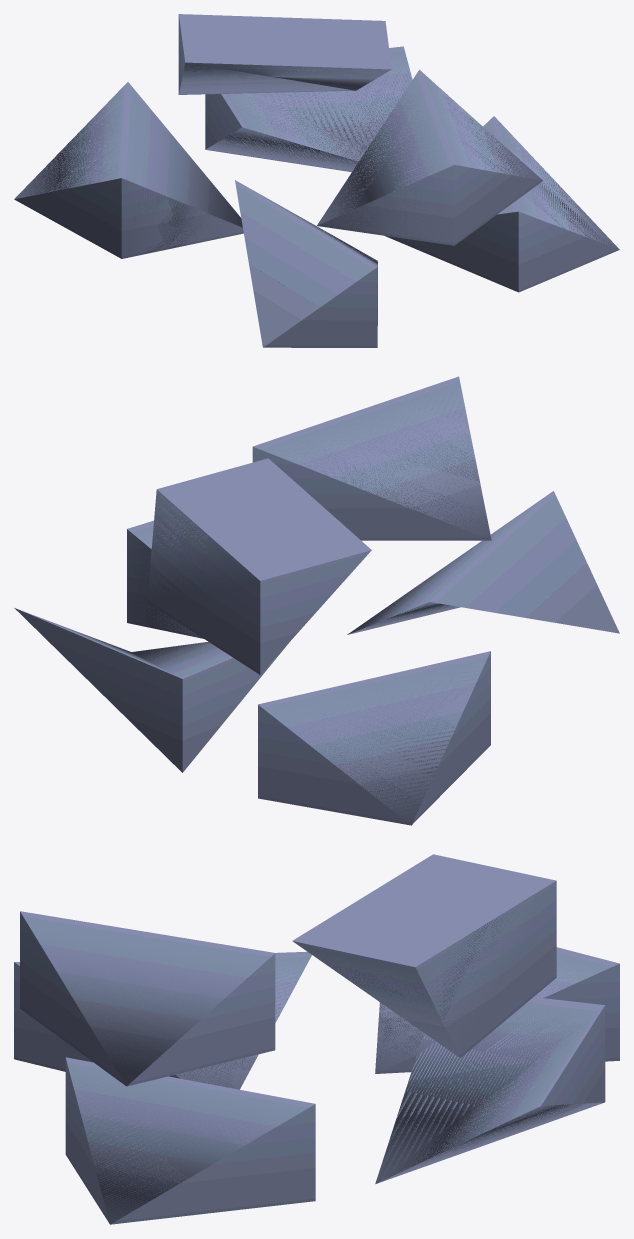
Rendered from debris.glb.
3 renders of one model, top to bottom at view 1: azimuth 30°, elevation 25°; view 2: azimuth 150°, elevation 25°; view 3: azimuth 270°, elevation 25°, orthographic. The views are drawn at different scales.
Visible parts, largest first — view 1: debris; view 2: debris; view 3: debris.
Part boxes in pixels (x1,y1,x2,y2): debris: [14, 14, 619, 347]; debris: [14, 376, 619, 825]; debris: [14, 854, 619, 1224].
Bounding box in the file's own units: 0.4162 × 0.1599 × 0.4515.
1 material, 1 textured.
